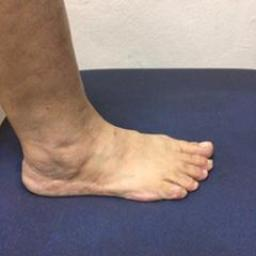Lateral View -Right Foot-: (6, 104, 221, 218)
